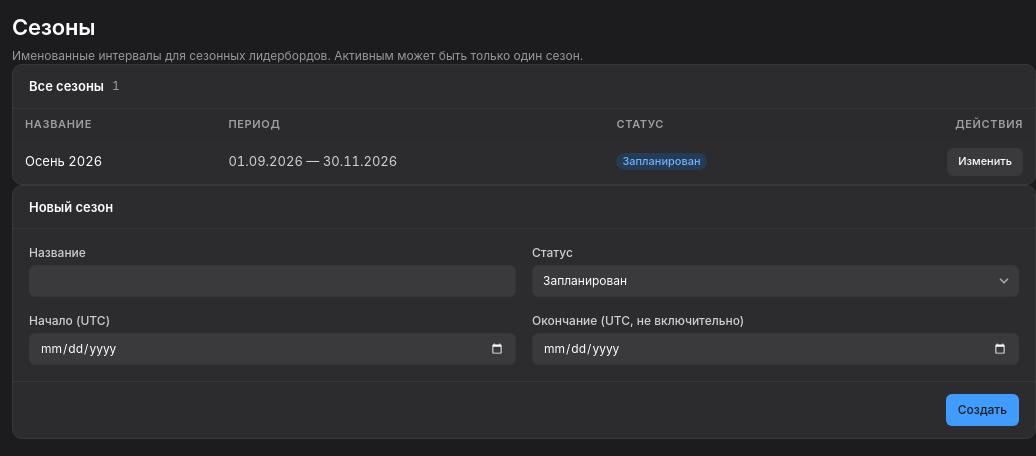
Test: seasons settings page › restores the create form when an edit is cancelled
Expected: the text "Осень 2026" is shown, [13,140,216,184]
Click the button "Изменить" at (985, 162), box [947,148,1023,176]
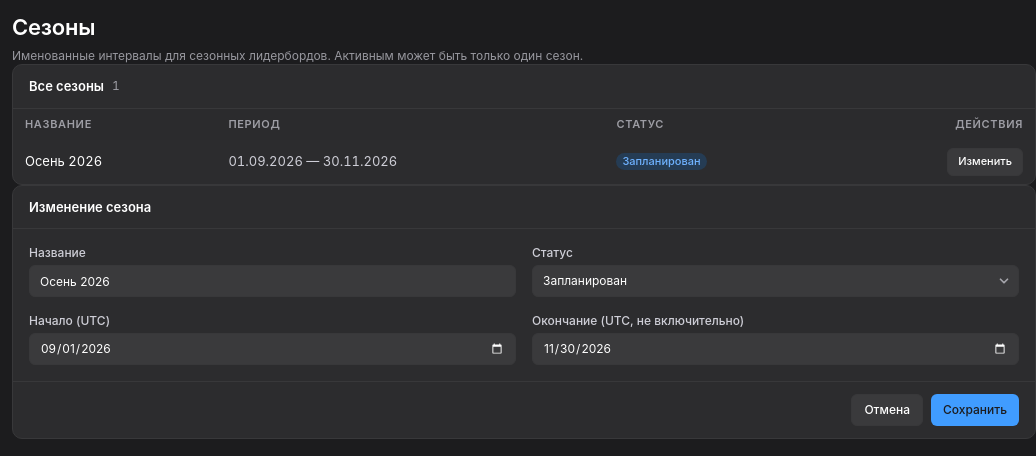
Result: the heading "Изменение сезона" is shown at [29,198,151,216]
Click the button "Отмена" at (887, 410), box [851,394,923,426]
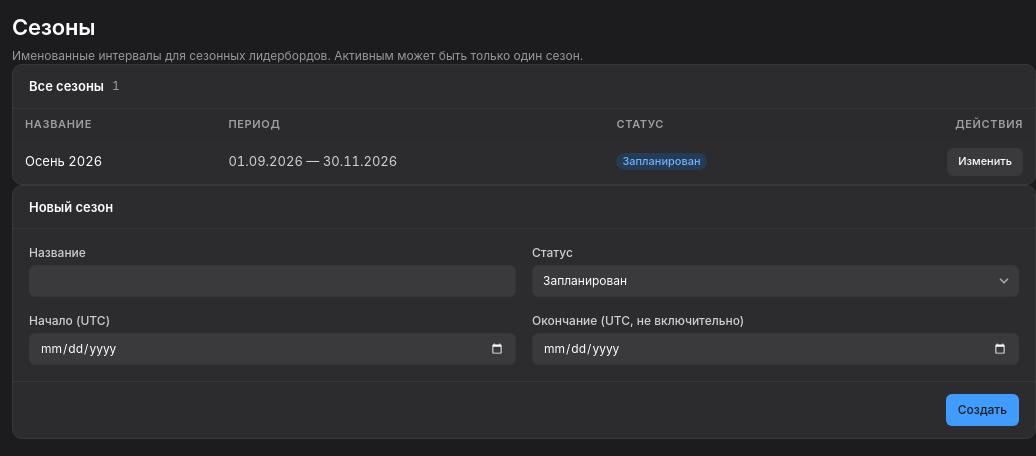
Result: the heading "Новый сезон" is shown at [29,198,113,216]
